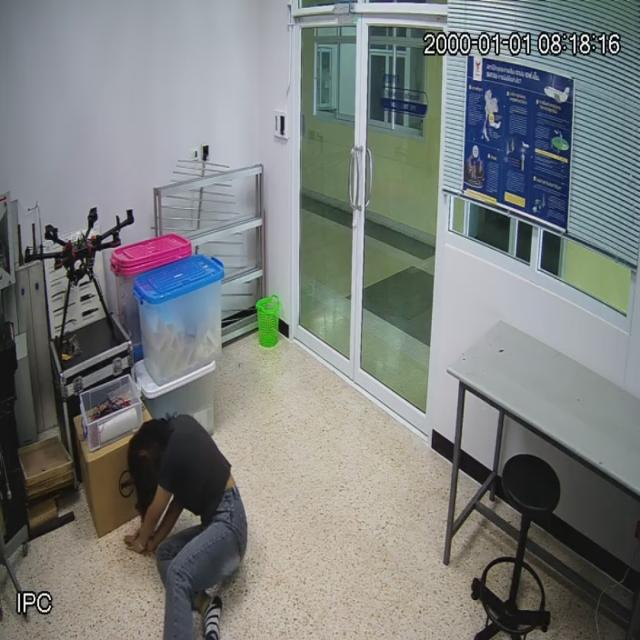fall: (116, 394, 257, 640)
